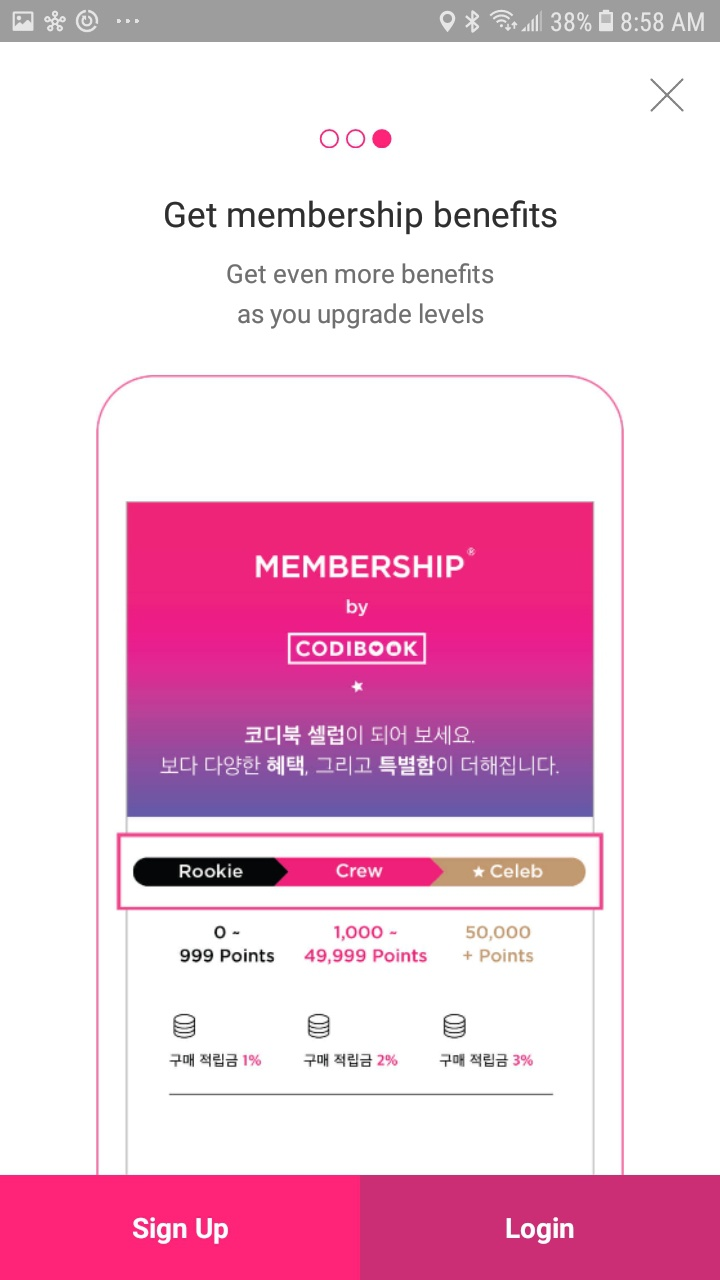Icon: (649, 78, 685, 113)
Image: (96, 375, 625, 1175)
PageIndicator: (320, 129, 393, 150)
Text: (227, 263, 494, 331), (165, 200, 558, 236)
TextButton: (1, 1175, 361, 1280), (361, 1175, 720, 1280)
UpperTaskBar: (1, 1, 720, 43)
